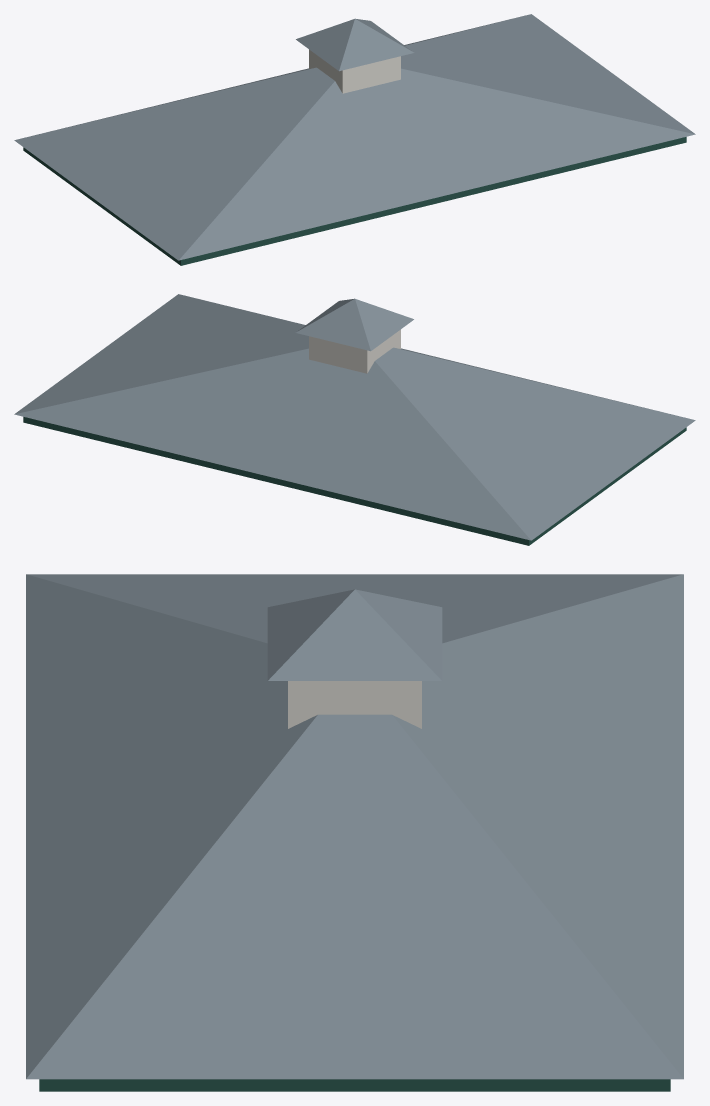
Rendered from telhado.glb.
3 views of the same model, one above another, from view 1: azimuth 30°, elevation 25°; view 2: azimuth 150°, elevation 25°; view 3: azimuth 270°, elevation 25° (orthographic). The views are drawn at different scales.
Parts seen in each view (by area): view 1: telhado; view 2: telhado; view 3: telhado.
Boxes of the visible parts, left/top/right/bottom form: telhado: left=14, top=14, right=695, bottom=265; telhado: left=14, top=294, right=695, bottom=545; telhado: left=26, top=574, right=683, bottom=1091.
Size of the model in its own units: 8.9 by 2.1 by 4.9.
